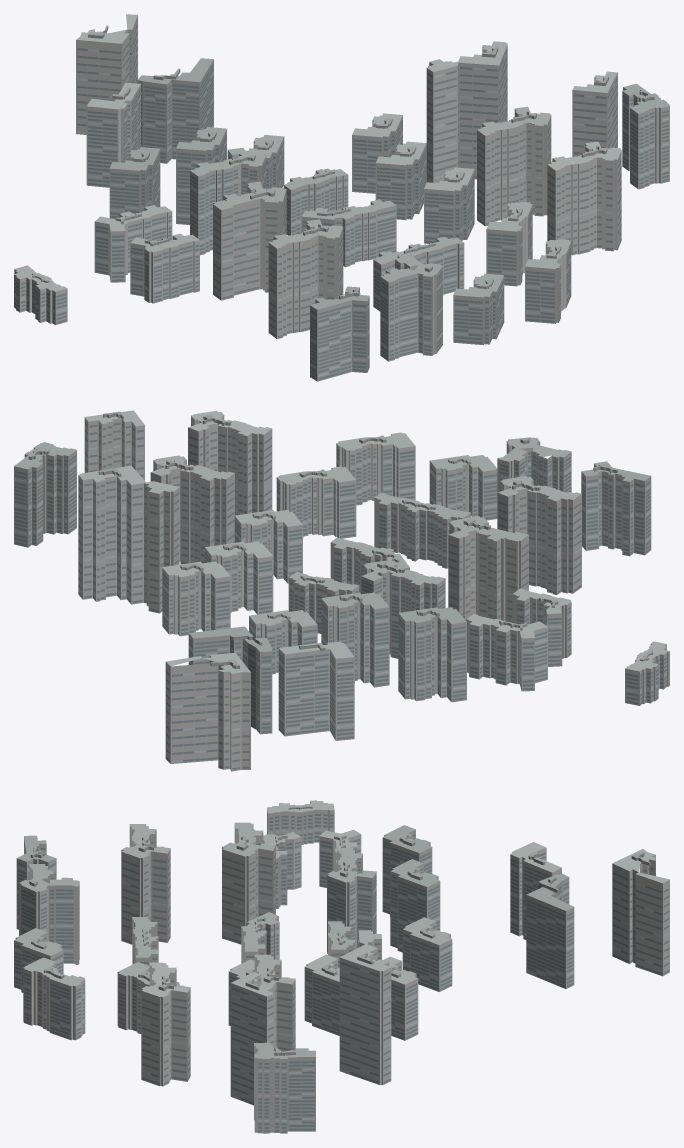
File: apt-a10025010.glb
The picture shows the model from 3 angles, top to bottom: view 1: azimuth 30°, elevation 25°; view 2: azimuth 150°, elevation 25°; view 3: azimuth 270°, elevation 25°; orthographic projection. The views are drawn at different scales.
Visible parts, largest first — view 1: apt-a10025010; view 2: apt-a10025010; view 3: apt-a10025010.
Part boxes in pixels (<box>): apt-a10025010: <box>14,14,669,381</box>; apt-a10025010: <box>14,410,669,771</box>; apt-a10025010: <box>14,800,669,1133</box>.
Bounding box in the file's own units: 524 × 95 × 484.
